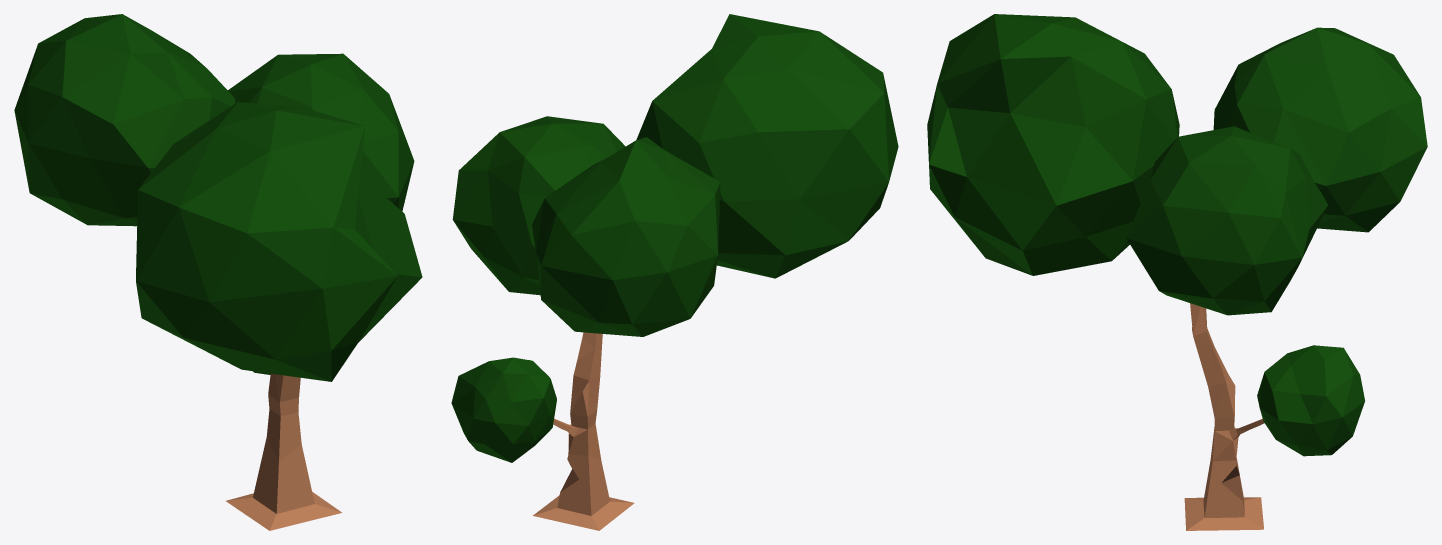
The model's file is Tree_2.fbx.
3 renders of one model, left to right at view 1: azimuth 30°, elevation 25°; view 2: azimuth 150°, elevation 25°; view 3: azimuth 270°, elevation 25°, orthographic. The views are drawn at different scales.
Parts seen in each view (by area): view 1: Tree_2; view 2: Tree_2; view 3: Tree_2.
Boxes of the visible parts, <box> form: Tree_2: <box>14,14,422,530</box>; Tree_2: <box>451,14,898,530</box>; Tree_2: <box>927,14,1427,530</box>.
Size of the model in its own units: 530 by 669 by 681.
